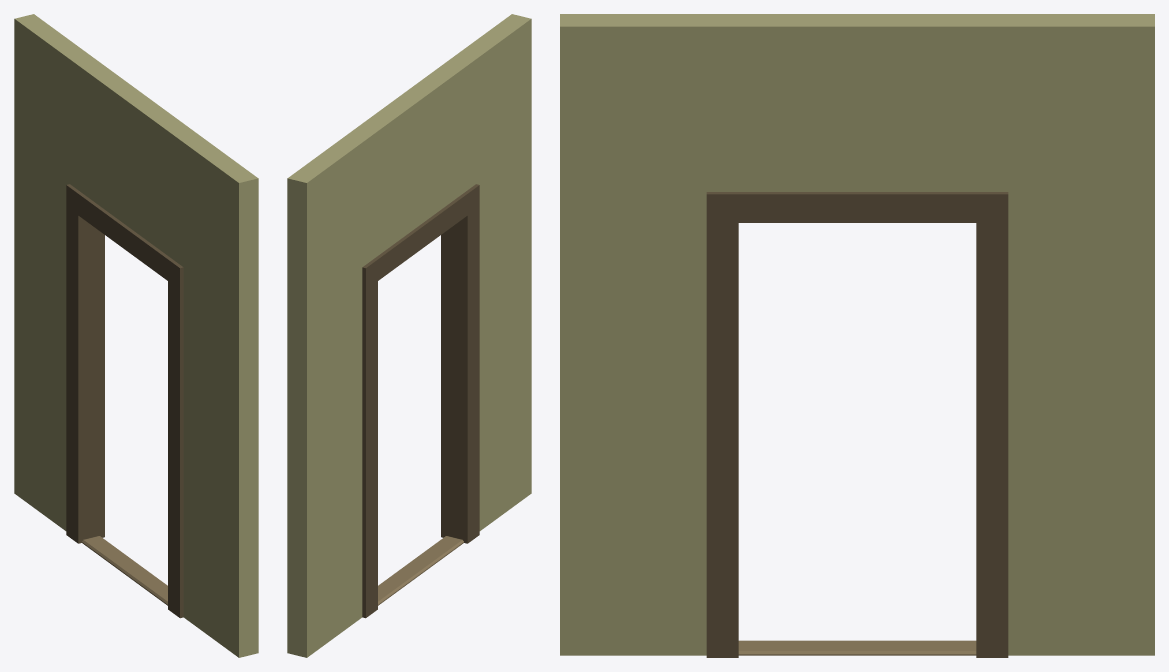
File: Doorway_SM.fbx
3 views of the same model, side by side, from view 1: azimuth 30°, elevation 25°; view 2: azimuth 150°, elevation 25°; view 3: azimuth 270°, elevation 25° (orthographic). The views are drawn at different scales.
Parts seen in each view (by area): view 1: Wall_Doorway; view 2: Wall_Doorway; view 3: Wall_Doorway.
Boxes of the visible parts, x1,y1,x2,y2 form: Wall_Doorway: (14, 14, 258, 657); Wall_Doorway: (287, 14, 531, 657); Wall_Doorway: (560, 14, 1154, 657).
Bounding box in the file's own units: 20.51 × 350 × 300.
